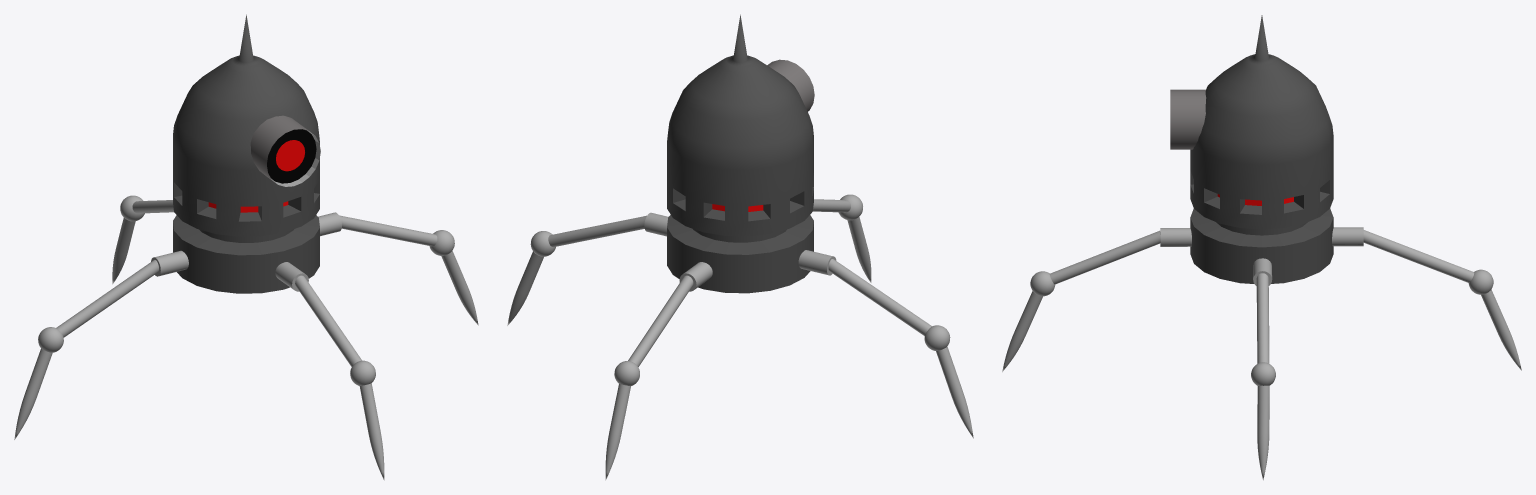
Rendered from Bomb_Bot.fbx.
3 views of the same model, side by side, from view 1: azimuth 30°, elevation 25°; view 2: azimuth 150°, elevation 25°; view 3: azimuth 270°, elevation 25° (orthographic). The views are drawn at different scales.
Parts seen in each view (by area): view 1: pCylinder1, pCylinder3 (×4), pCylinder5, pCylinder4 (×4), pCylinder2 (×2), pSphere1 (×2); view 2: pCylinder1, pCylinder3 (×3), pCylinder4 (×4), pCylinder2 (×2), pSphere1 (×2), pCylinder5; view 3: pCylinder1, pCylinder3 (×3), pCylinder4 (×3), pCylinder5, pCylinder2 (×2).
Boxes of the visible parts, x1,y1,x2,y2 form: pCylinder1: (173, 14, 319, 293); pCylinder3 (×4): (56, 200, 437, 366); pCylinder5: (250, 115, 320, 186); pCylinder4 (×4): (14, 217, 478, 480); pCylinder2 (×2): (151, 250, 308, 291); pSphere1 (×2): (38, 327, 375, 385); pCylinder1: (667, 14, 813, 293); pCylinder3 (×3): (548, 215, 931, 366); pCylinder4 (×4): (507, 217, 973, 480); pCylinder2 (×2): (679, 250, 836, 291); pSphere1 (×2): (614, 325, 950, 386); pCylinder5: (767, 59, 814, 111); pCylinder1: (1190, 15, 1333, 283); pCylinder3 (×3): (1049, 230, 1474, 363); pCylinder4 (×3): (1002, 289, 1521, 480); pCylinder5: (1170, 89, 1206, 149); pCylinder2 (×2): (1160, 227, 1363, 246).
Size of the model in its own units: 41.48 by 31.43 by 41.48.
